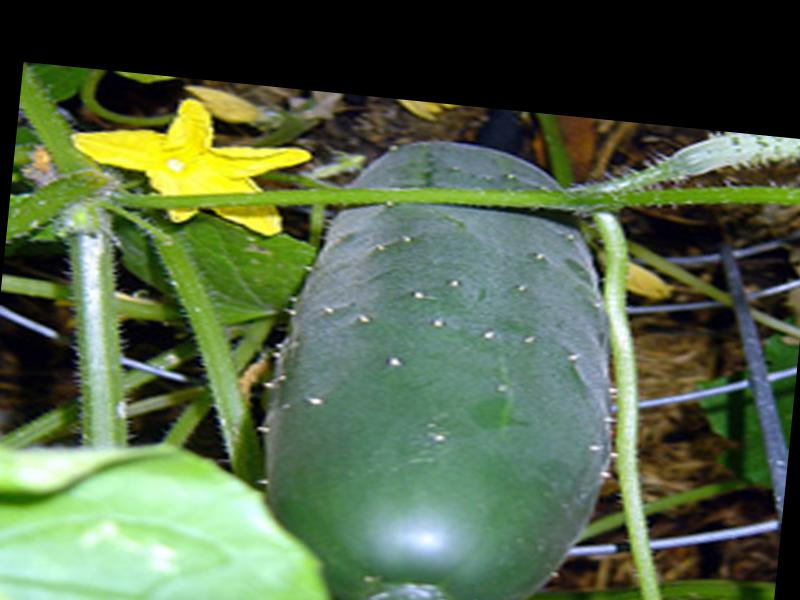Cucumber: (247, 130, 636, 600)
